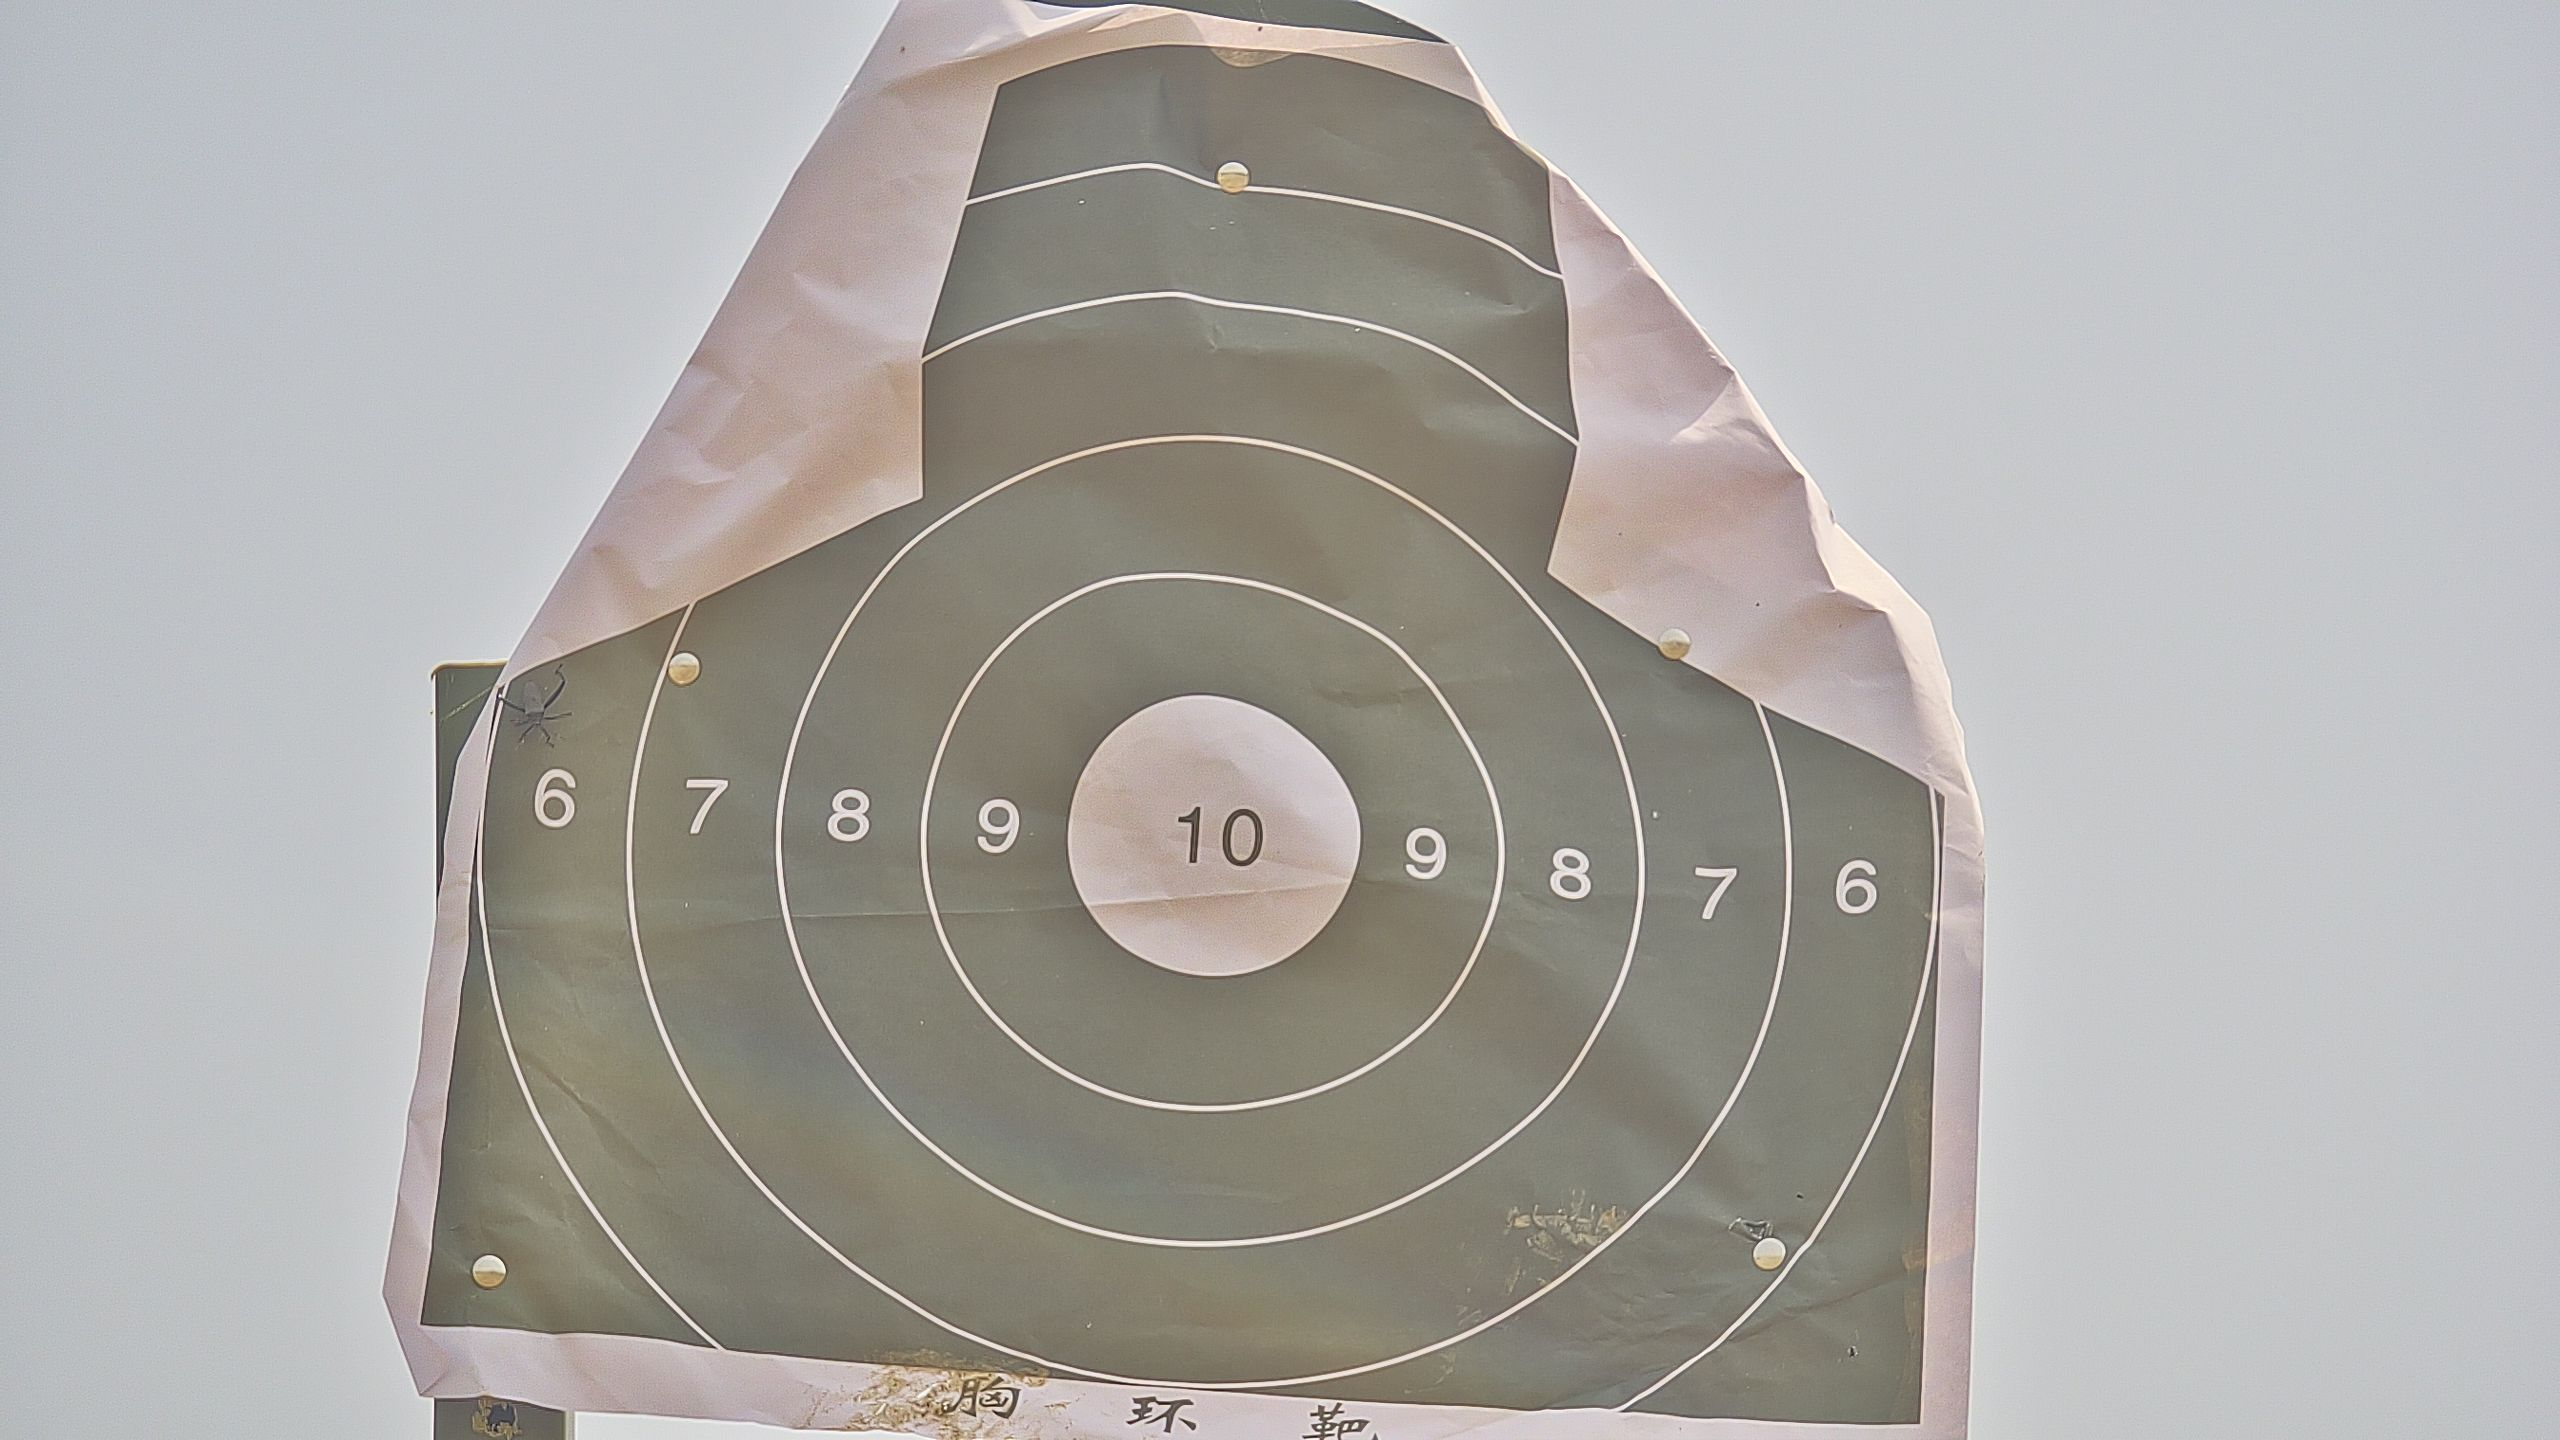kernel: (1211, 837, 1217, 844)
target: (401, 49, 1946, 1440)
ten: (1064, 686, 1368, 979)
